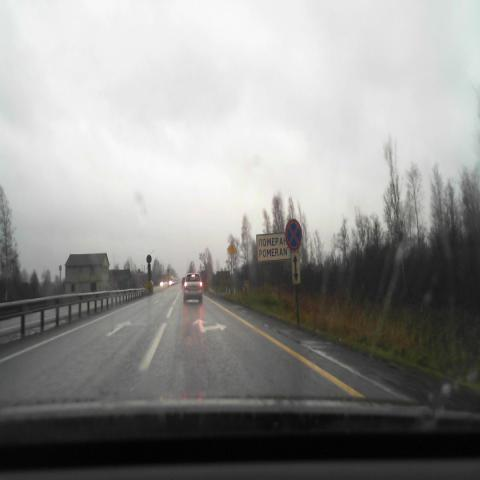3_27: (285, 219, 302, 250)
8_2_4: (291, 252, 300, 283)
